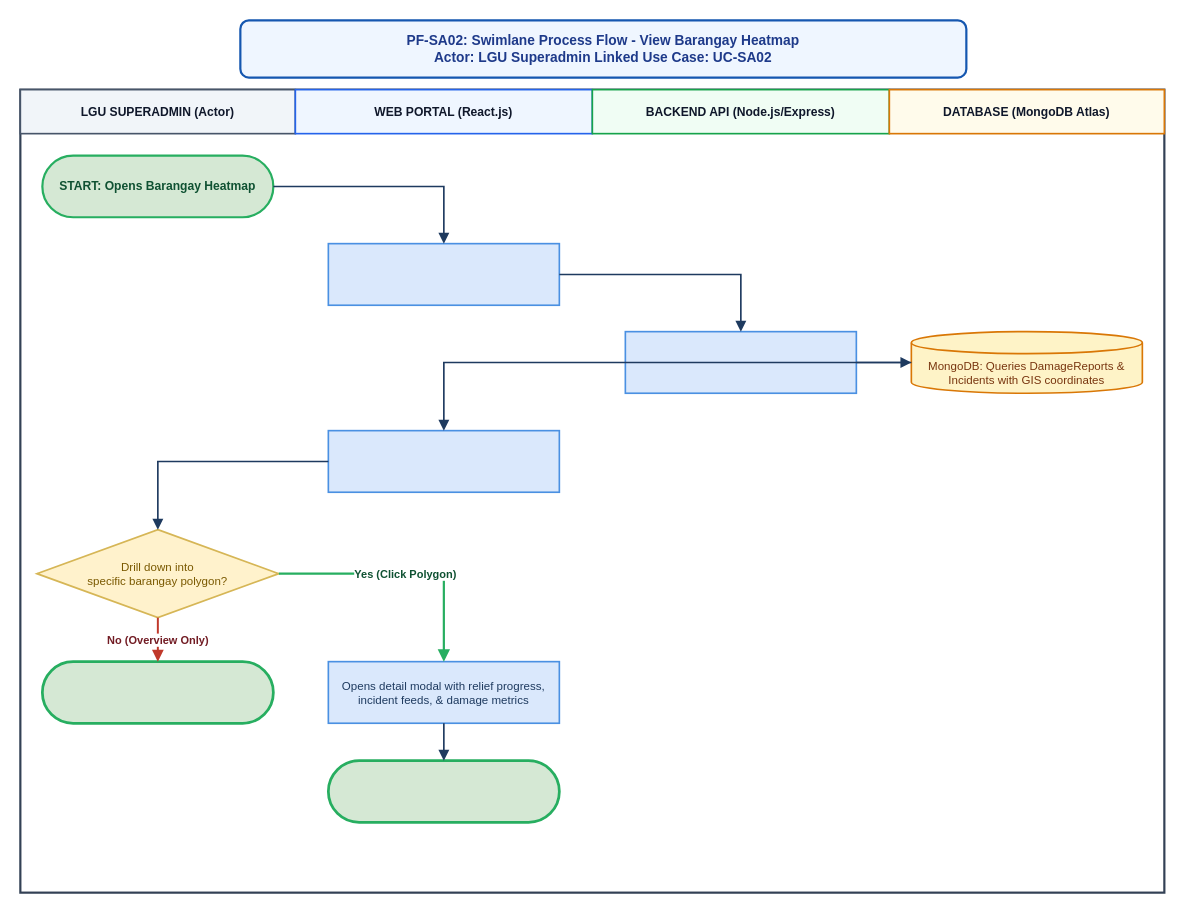
The diagram is 1184 pixels wide and 912 high, and some of its shapes have lost their labels. Each missing label, with the box of its shape:
Backend API controller authenticates request via JWT protect middleware: (624, 330, 857, 394)
END: City-wide GIS risk overview reviewed: (40, 660, 274, 724)
END: Specific barangay damage intelligence analyzed: (326, 759, 560, 823)
Page component triggers GET /api/damage-reports and GET /api/incidents: (327, 242, 560, 306)
Renders Leaflet.js map with color-coded risk polygons (Red, Orange, Yellow): (327, 429, 560, 493)
